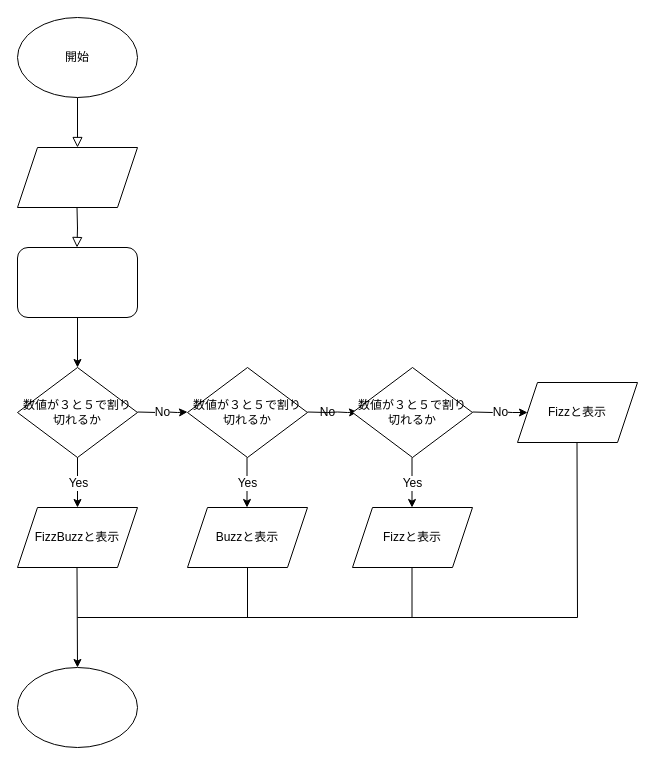
The diagram is 655 pixels wide and 765 high, and some of its shapes have lost their labels. The centre of each missing label's shape, as x and y in pixels:
出力: (x=77, y=707)
標準入力: (x=77, y=177)
標準入力の値を数値に変換: (x=77, y=282)
